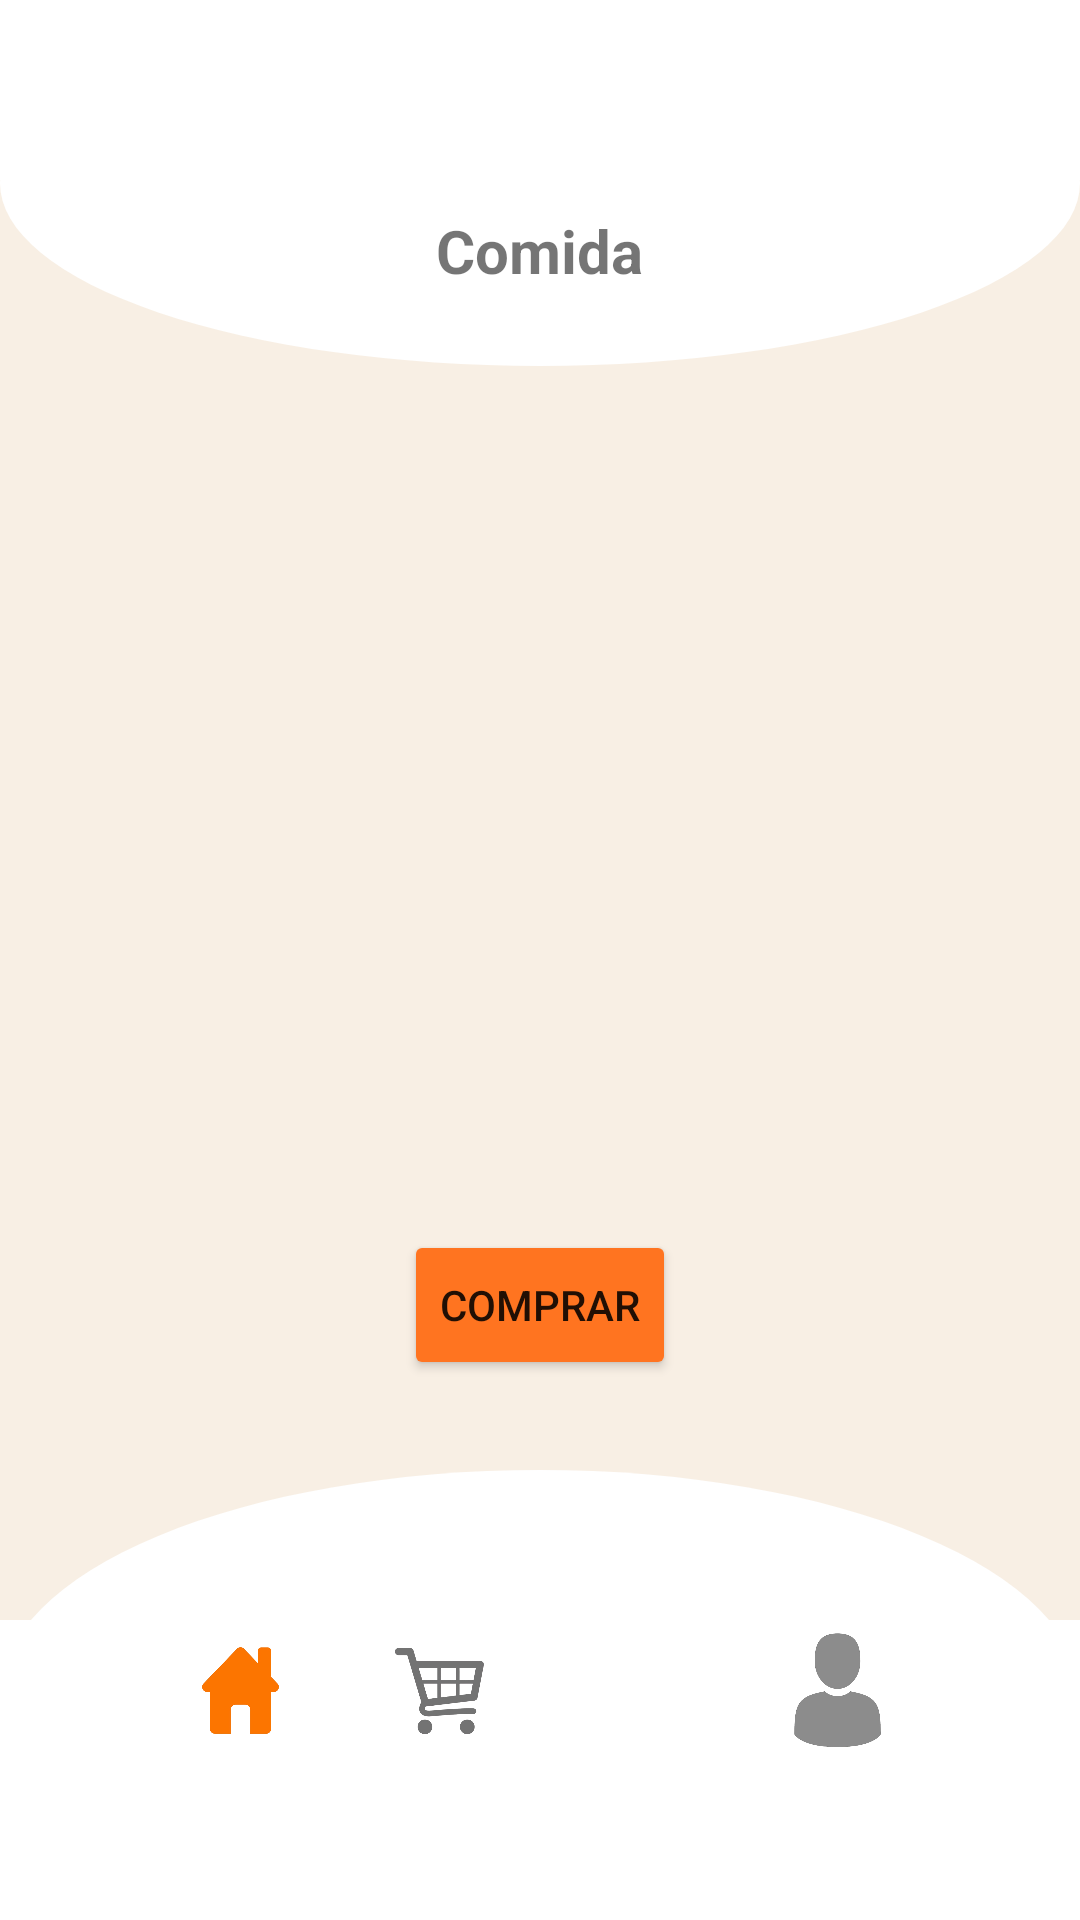

Where icons sit on this 1080 x 1920 app screen, as detection(x1, y1, x2, y2):
homenaranja: detection(202, 1647, 279, 1734)
perfil: detection(794, 1633, 881, 1747)
